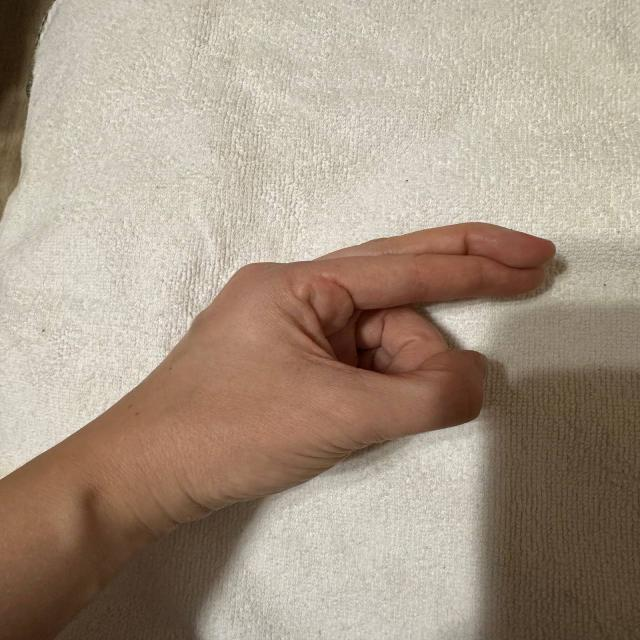ia: (64, 166, 606, 562)
